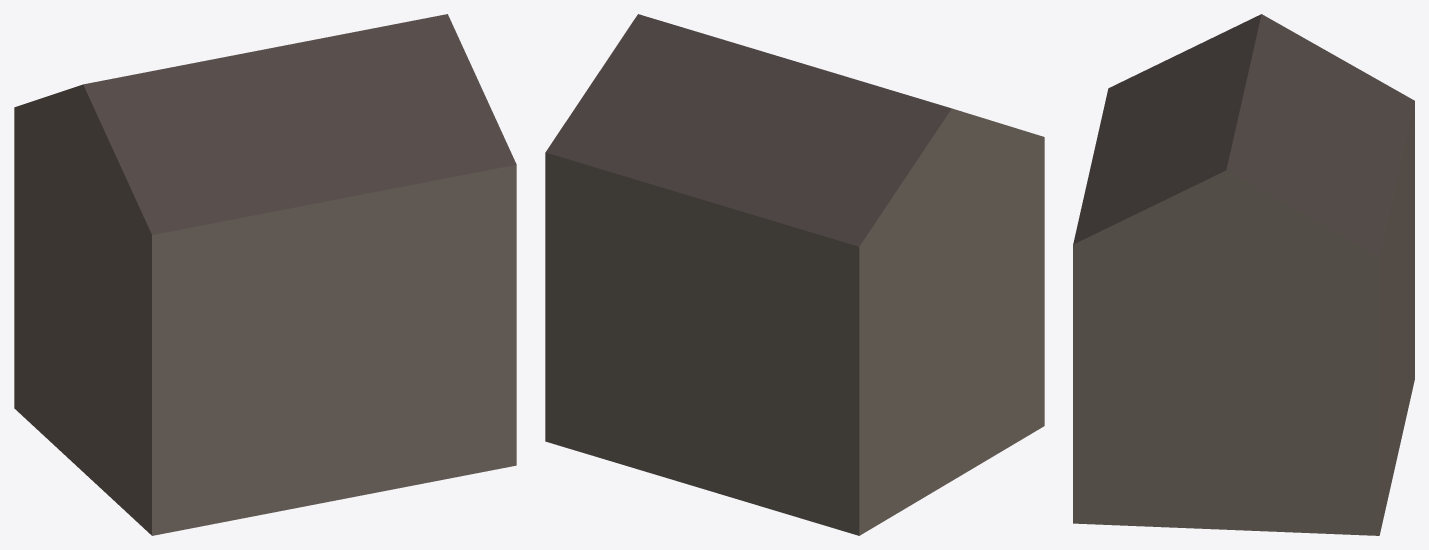
3 views of the same model, side by side, from view 1: azimuth 30°, elevation 25°; view 2: azimuth 150°, elevation 25°; view 3: azimuth 270°, elevation 25° (orthographic). The views are drawn at different scales.
Parts seen in each view (by area): view 1: HP-w858824345; view 2: HP-w858824345; view 3: HP-w858824345.
Part boxes in pixels (bbox=[...]): HP-w858824345: bbox=[14, 14, 516, 535]; HP-w858824345: bbox=[545, 14, 1044, 535]; HP-w858824345: bbox=[1073, 14, 1414, 535].
Size of the model in its own units: 7.78 by 7.73 by 6.66.
